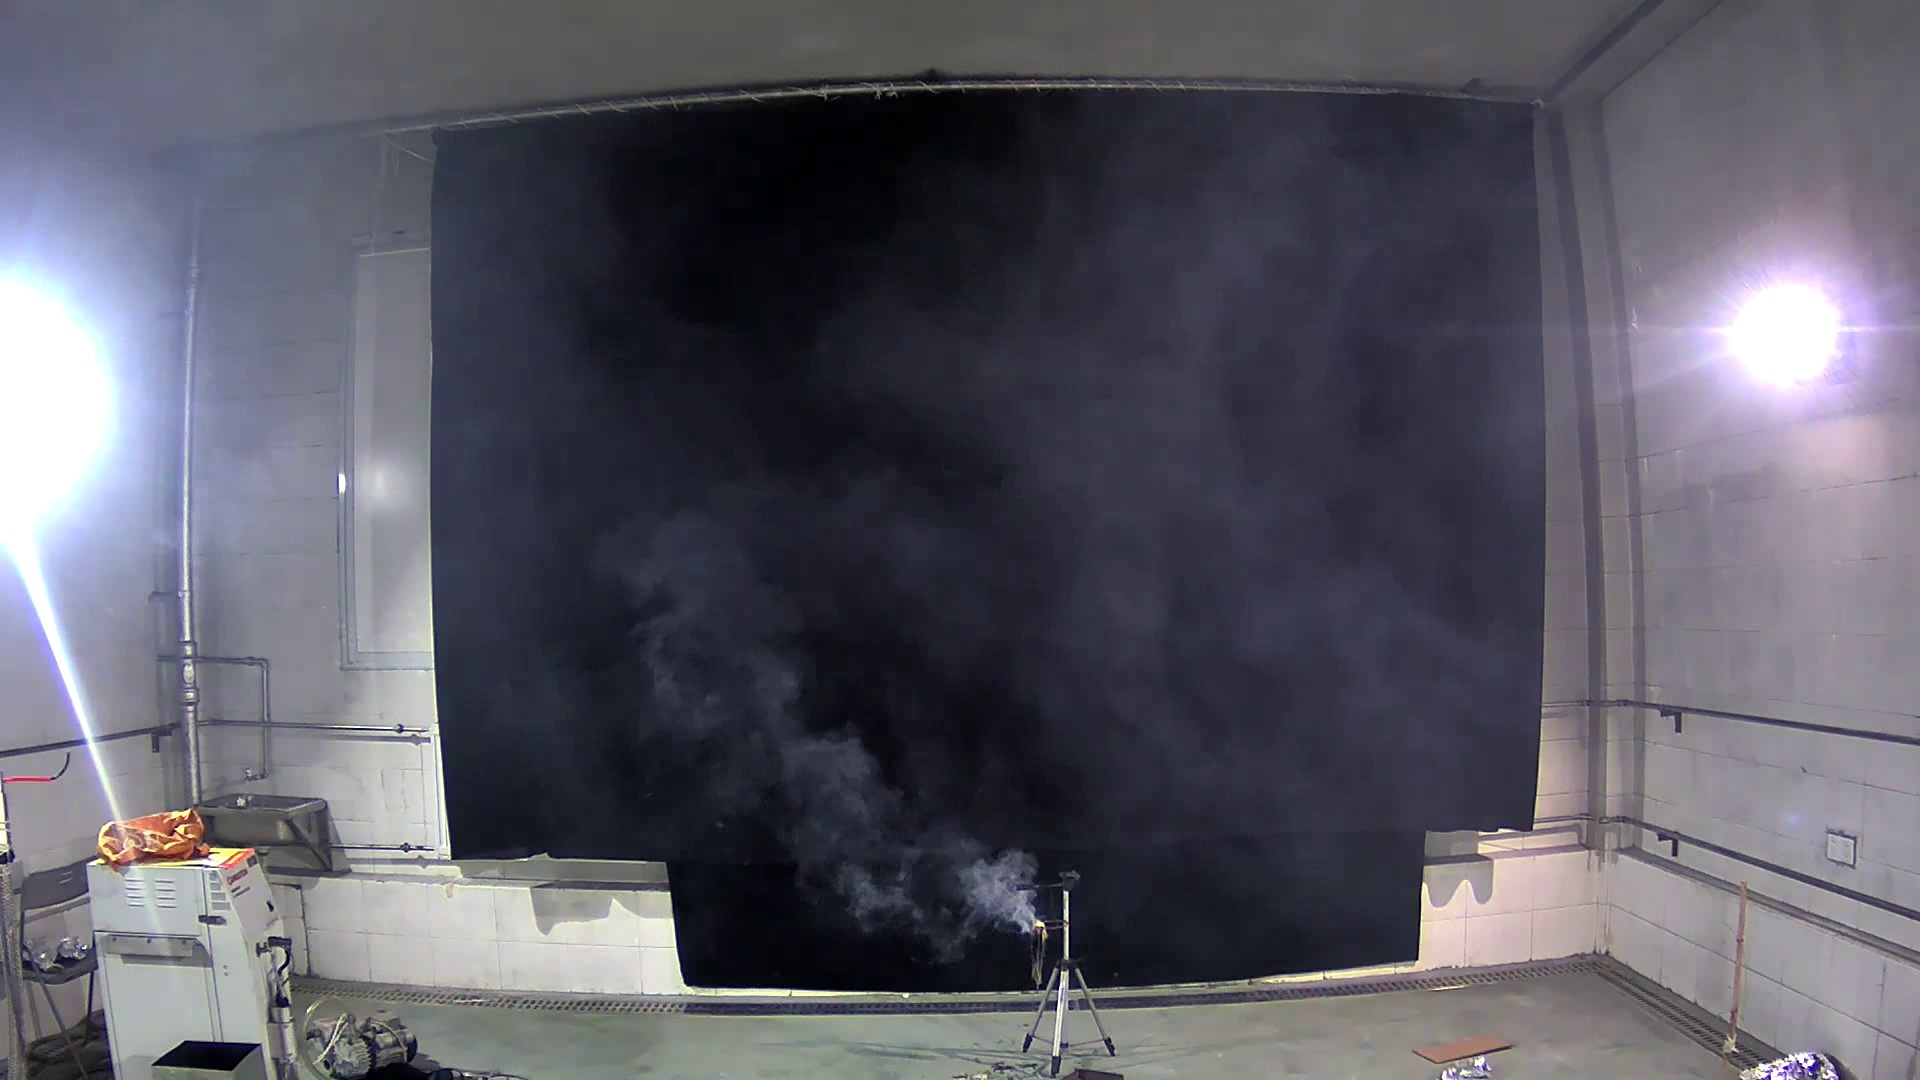smoke: (615, 488, 1042, 949)
